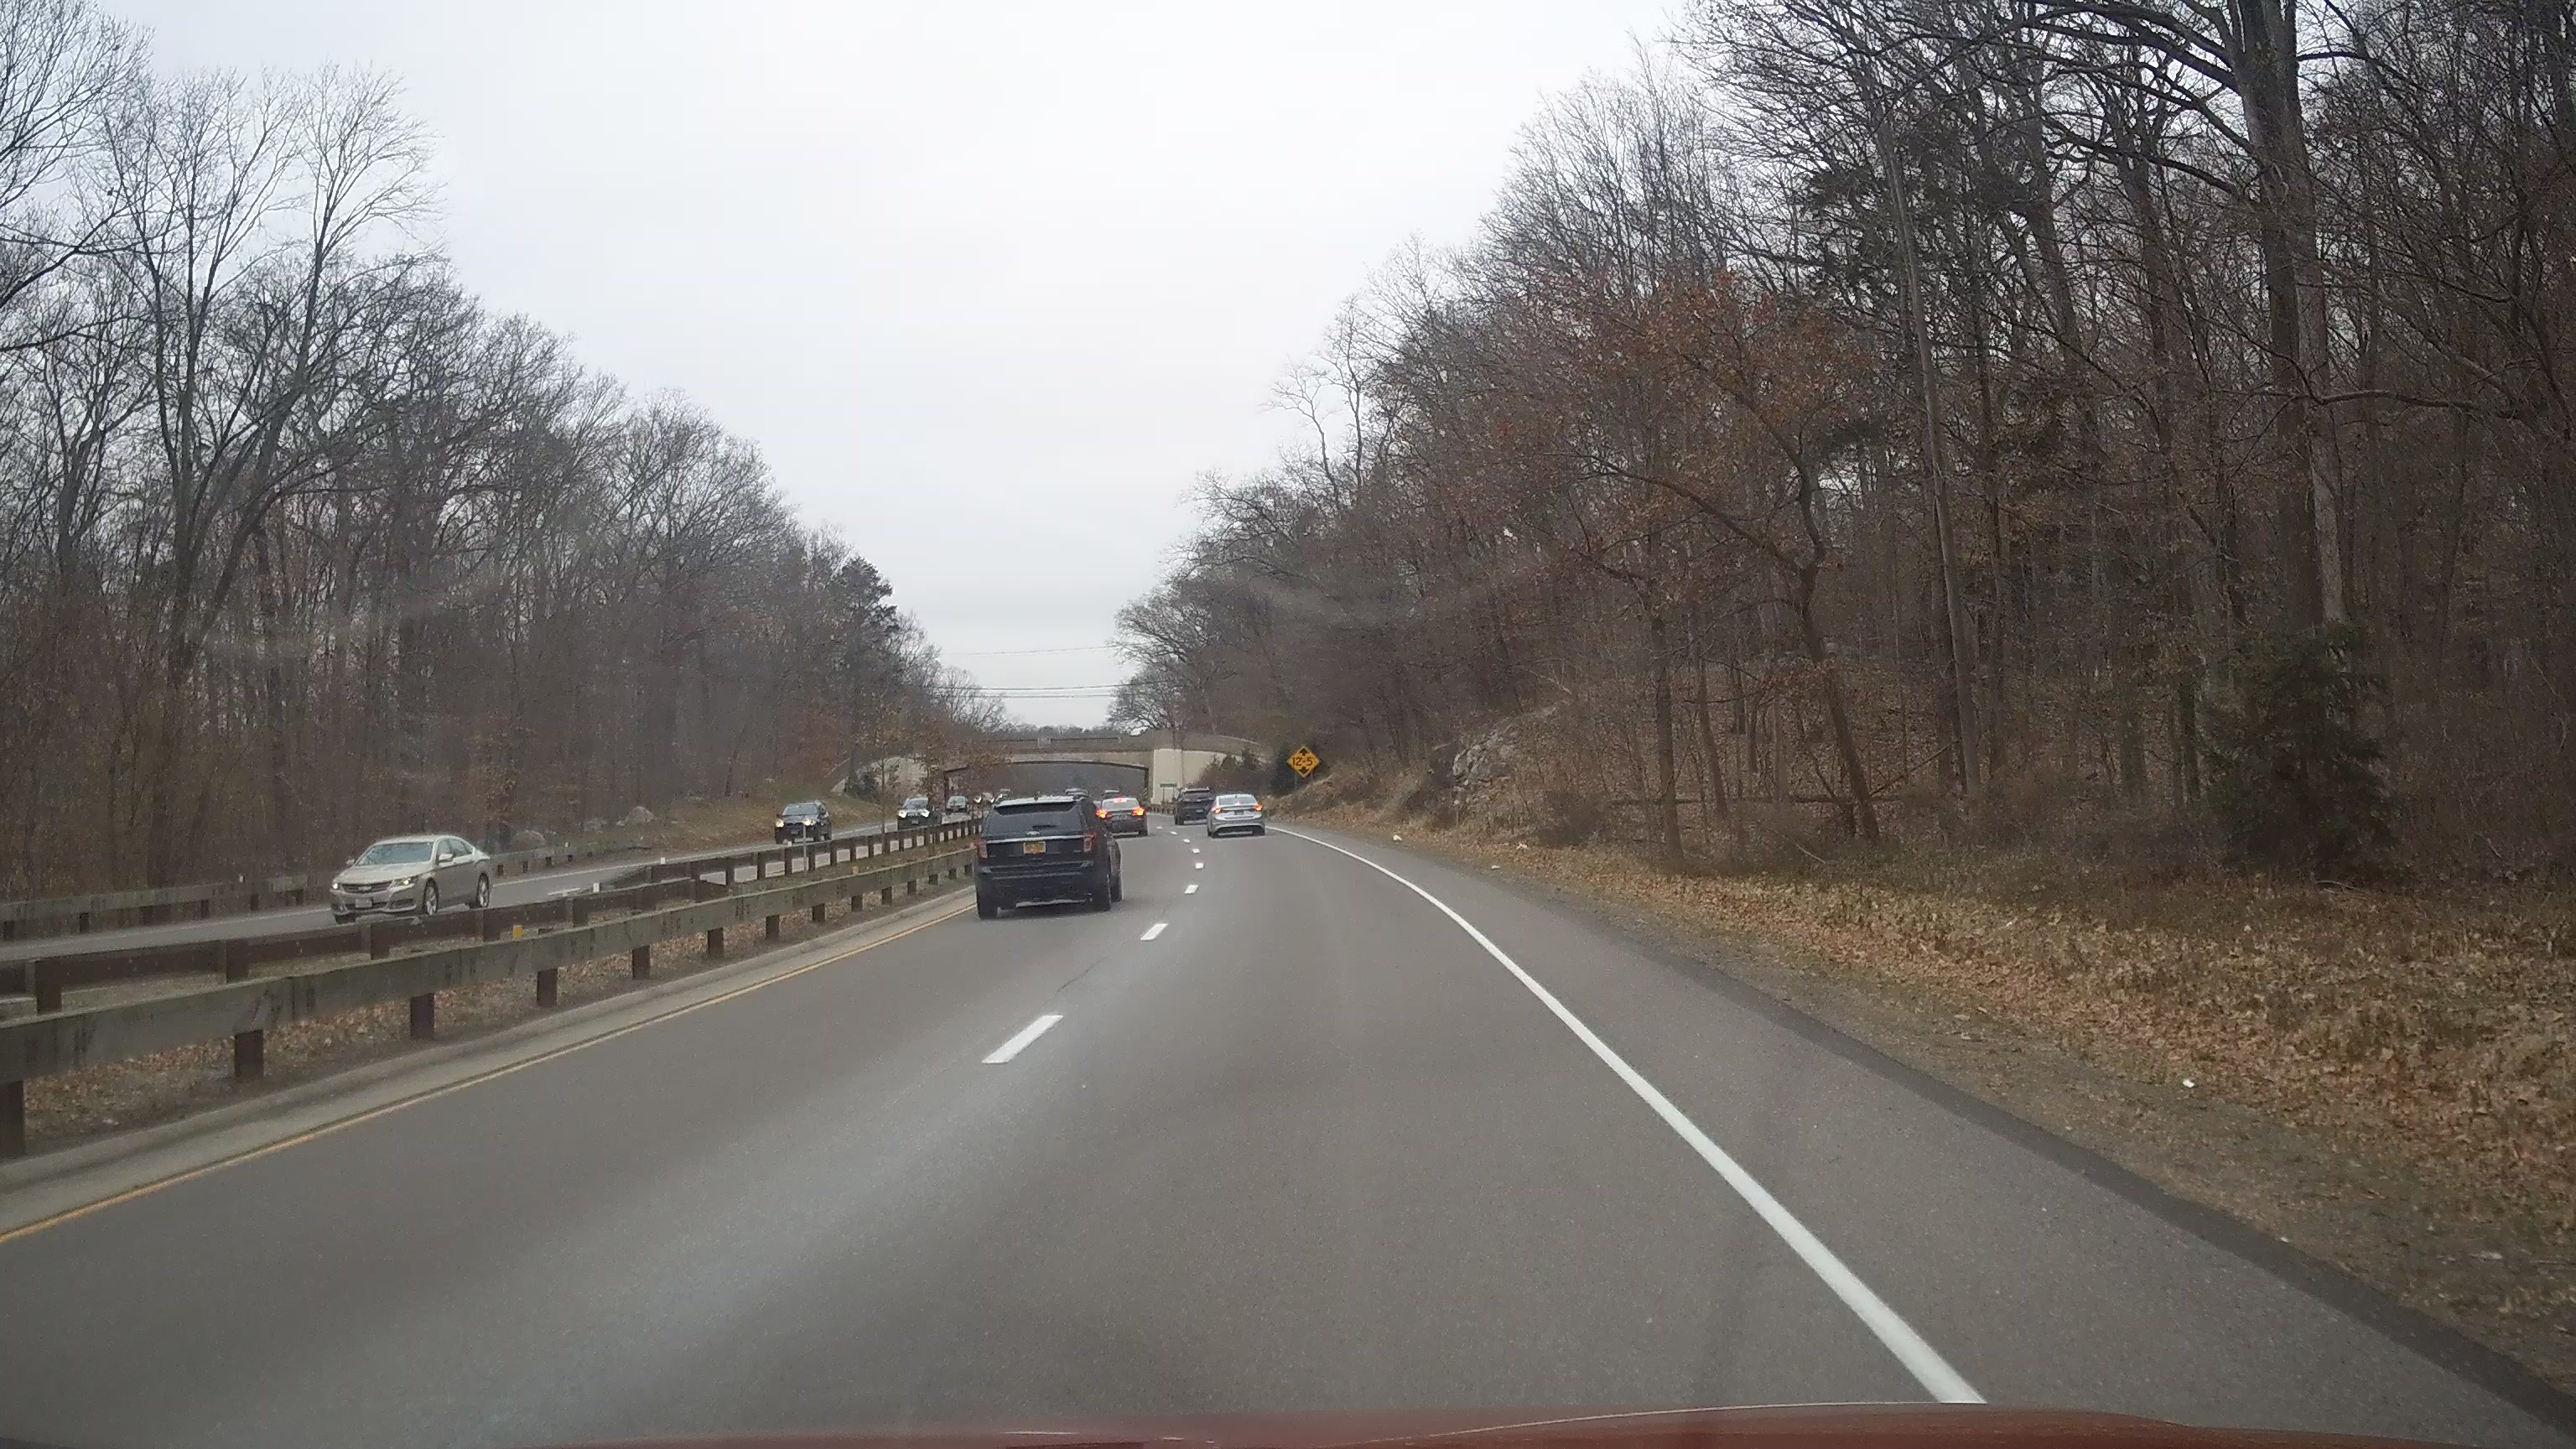low-clearance-sign: (1286, 743, 1322, 778)
